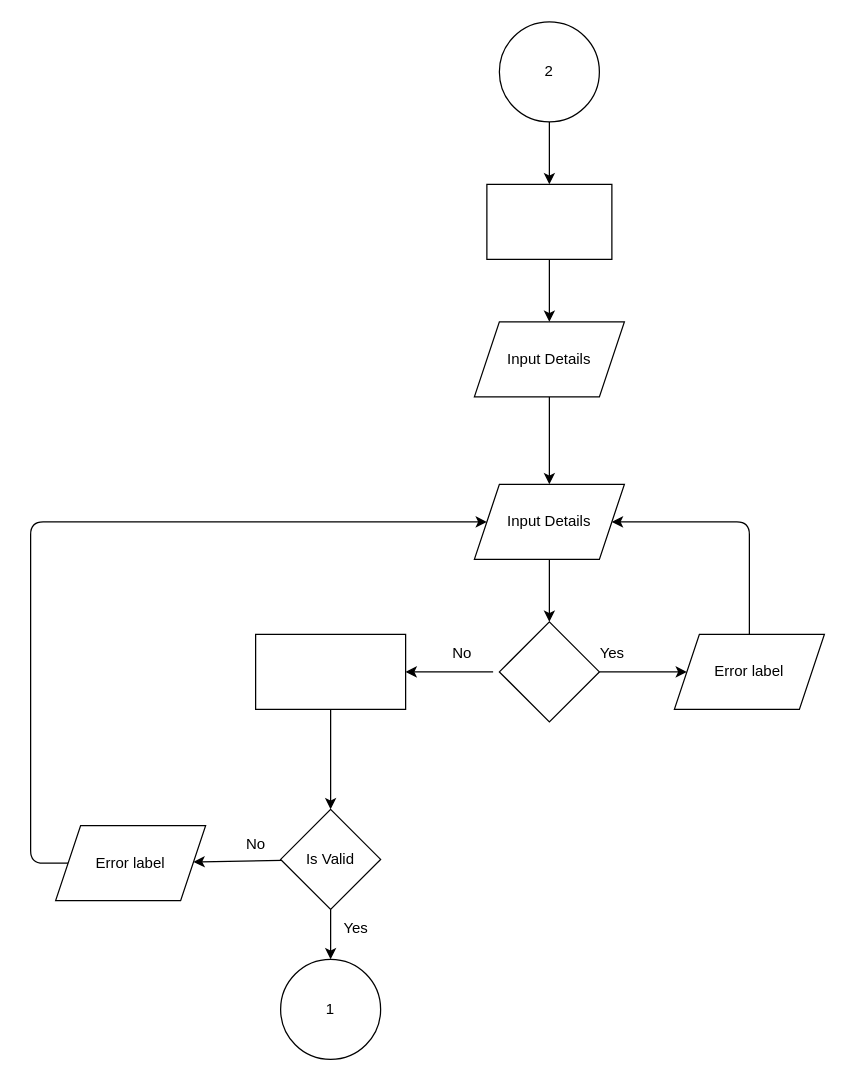
Some shapes in this 846 by 1081 pixel diagram are drawn without their labels. The shapes that lost their labels are listed below. From the top down, each one's centre as x and y in pixels, then its label:
[549,221]: Show Sign In Page
[330,671]: Authenticate
[548,671]: Is Null
